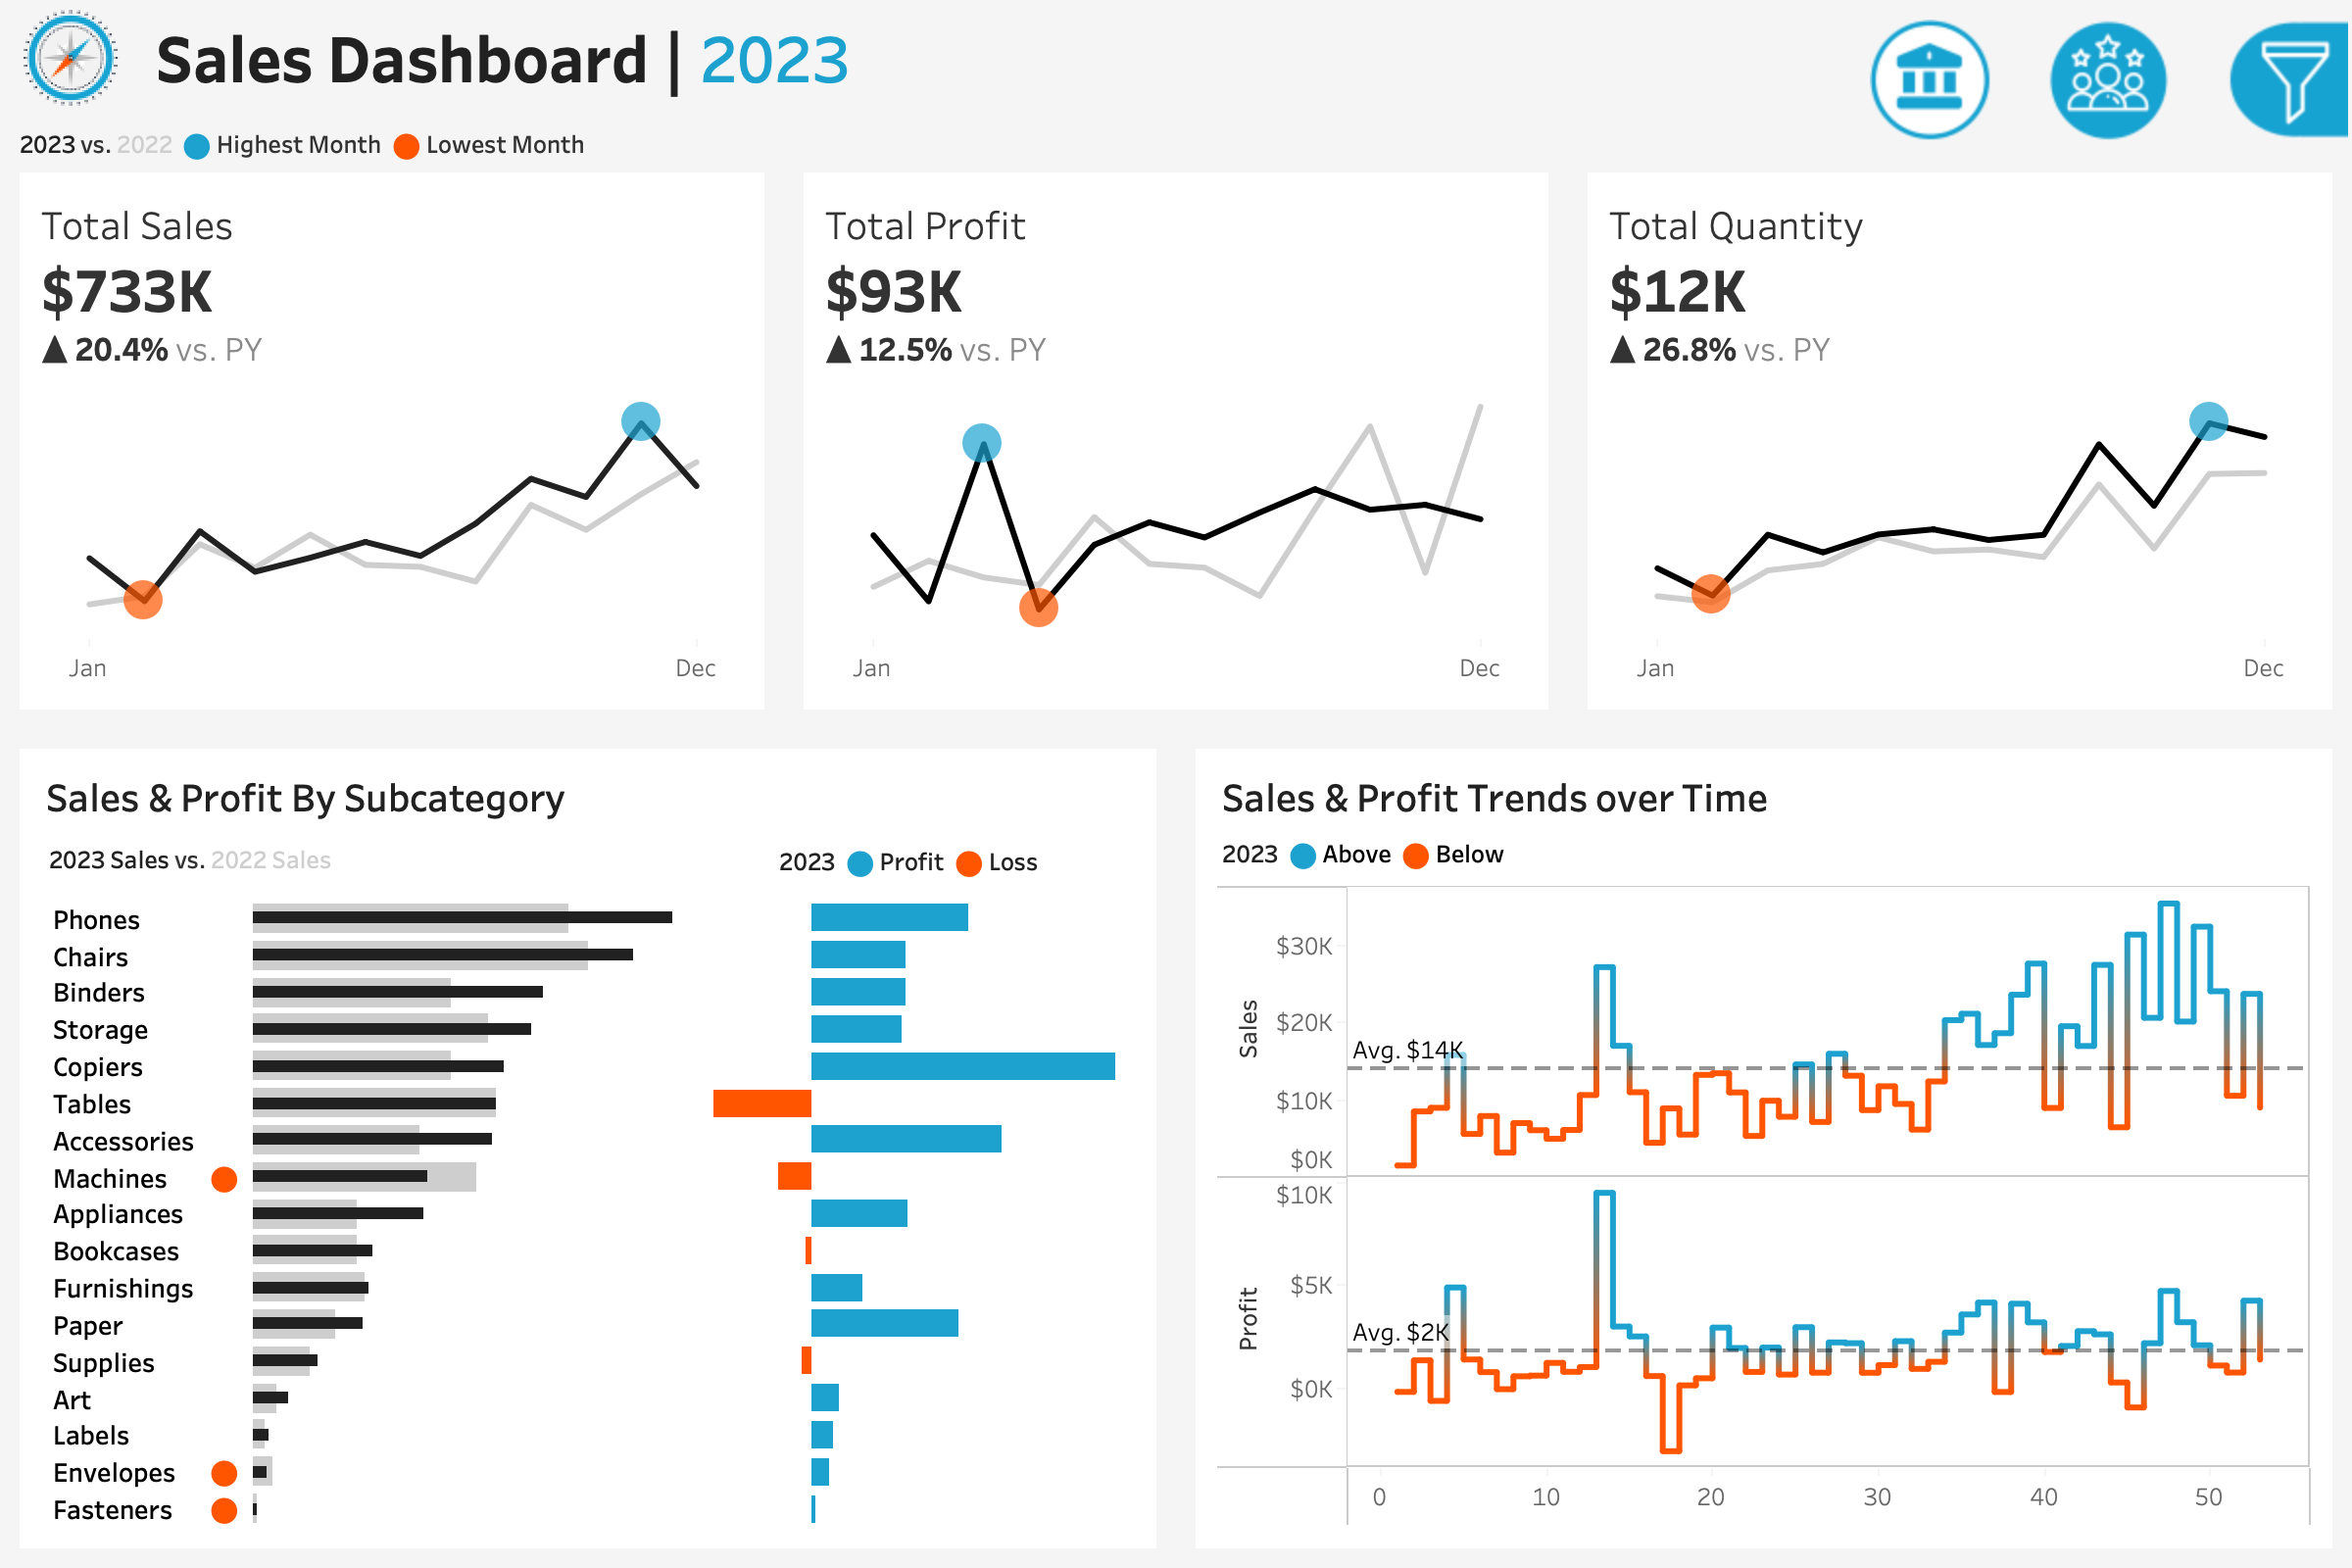

Layout of this report page (visuals, bound fields, positions):
{"tool":"tableau","page":{"name":"Sales Dashboard","canvas":[1200,800],"ordinal":1},"visuals":[{"type":"image","param":"Image/Icon - Logo.png","box":[0,0,73,59]},{"type":"text","box":[73,0,820,59]},{"type":"dashboard-object","box":[940,6,91,70]},{"type":"dashboard-object","box":[1031,6,91,70]},{"type":"blank","box":[952,10,237,86]},{"type":"worksheet","title":"Legend KPI","mark":"Automatic","box":[0,59,1200,29]},{"type":"worksheet","title":"KPI Sales","mark":"Automatic","rows":["Calculation_721701895347843083"],"cols":["Order Date"],"box":[0,88,400,284]},{"type":"worksheet","title":"KPI Profit","mark":"Automatic","rows":["Min/Max Sales (copy)_237846410425847814"],"cols":["Order Date"],"box":[400,88,400,284]},{"type":"worksheet","title":"KPI Quantity","mark":"Automatic","rows":["Min/Max Sales (copy) (copy)_237846410425856007"],"cols":["Order Date"],"box":[800,88,400,284]},{"type":"text","box":[952,96,237,34]},{"type":"parameter","param":"[Parameters].[Parameter 1]","box":[952,130,237,52]},{"type":"text","box":[952,182,237,29]},{"type":"filter","title":"KPI Sales","param":"[federated.1kpxa041aiai2y1cl4pui1t4eju9].[none:Category:nk]","box":[952,211,237,52]},{"type":"filter","title":"KPI Sales","param":"[federated.1kpxa041aiai2y1cl4pui1t4eju9].[none:Sub-Category:nk]","box":[952,263,237,52]},{"type":"blank","box":[952,315,237,60]},{"type":"text","box":[952,375,237,29]},{"type":"text","box":[17,389,566,34]},{"type":"text","box":[617,389,566,34]},{"type":"filter","title":"KPI Sales","param":"[federated.1kpxa041aiai2y1cl4pui1t4eju9].[none:Region:nk]","box":[952,404,237,52]},{"type":"worksheet","title":"Legend Subcategory","mark":"Automatic","box":[17,423,374,32]},{"type":"text","box":[391,423,192,32]},{"type":"text","box":[617,423,566,25]},{"type":"worksheet","title":"Weekly Trends","mark":"Automatic","rows":["Calculation_721701895334993921","CY Sales (copy)_237846410424180736"],"cols":["Order Date"],"box":[617,448,566,335]},{"type":"worksheet","title":"Subcategory Comparison","mark":"Bar","rows":["Sub-Category","Calculation_2435040078806671369"],"cols":["CY Sales (copy)_721701895335804930","Calculation_721701895334993921","CY Sales (copy)_237846410424180736"],"box":[17,455,566,327.9]},{"type":"filter","title":"KPI Sales","param":"[federated.1kpxa041aiai2y1cl4pui1t4eju9].[none:State:nk]","box":[952,456,237,52]},{"type":"filter","title":"KPI Sales","param":"[federated.1kpxa041aiai2y1cl4pui1t4eju9].[none:City:nk]","box":[952,508,237,52]}]}

Visuals, with their boxes in screenshot pixels (x1, y1, x2, y2), scaled from the page's 1200x800 canvas onto the 2352x1568 screenshot:
image: select_region(0, 0, 143, 116)
text: select_region(143, 0, 1750, 116)
dashboard-object: select_region(1842, 12, 2021, 149)
dashboard-object: select_region(2021, 12, 2199, 149)
blank: select_region(1866, 20, 2330, 188)
"Legend KPI" worksheet: select_region(0, 116, 2351, 172)
"KPI Sales" worksheet: select_region(0, 172, 784, 729)
"KPI Profit" worksheet: select_region(784, 172, 1568, 729)
"KPI Quantity" worksheet: select_region(1568, 172, 2351, 729)
text: select_region(1866, 188, 2330, 255)
parameter: select_region(1866, 255, 2330, 357)
text: select_region(1866, 357, 2330, 414)
"KPI Sales" filter: select_region(1866, 414, 2330, 515)
"KPI Sales" filter: select_region(1866, 515, 2330, 617)
blank: select_region(1866, 617, 2330, 735)
text: select_region(1866, 735, 2330, 792)
text: select_region(33, 762, 1143, 829)
text: select_region(1209, 762, 2319, 829)
"KPI Sales" filter: select_region(1866, 792, 2330, 894)
"Legend Subcategory" worksheet: select_region(33, 829, 766, 892)
text: select_region(766, 829, 1143, 892)
text: select_region(1209, 829, 2319, 878)
"Weekly Trends" worksheet: select_region(1209, 878, 2319, 1535)
"Subcategory Comparison" worksheet (Bar marks): select_region(33, 892, 1143, 1535)
"KPI Sales" filter: select_region(1866, 894, 2330, 996)
"KPI Sales" filter: select_region(1866, 996, 2330, 1098)
